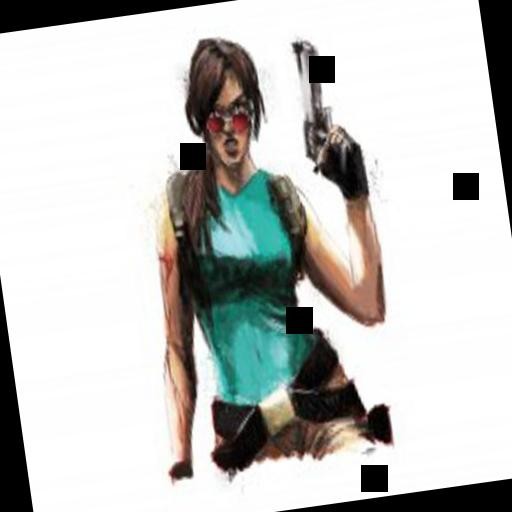Handgun: (272, 27, 376, 184)
